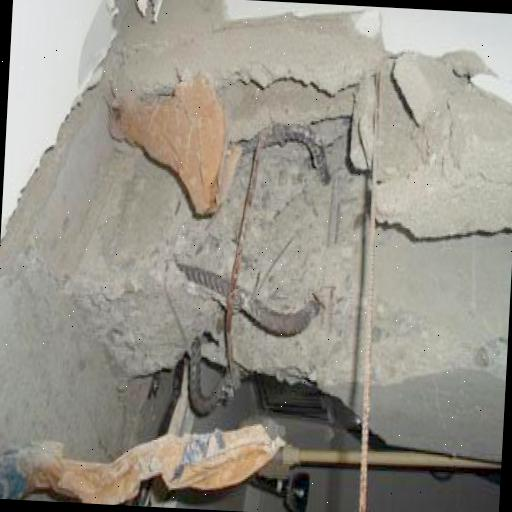spalling: (69, 114, 478, 387)
